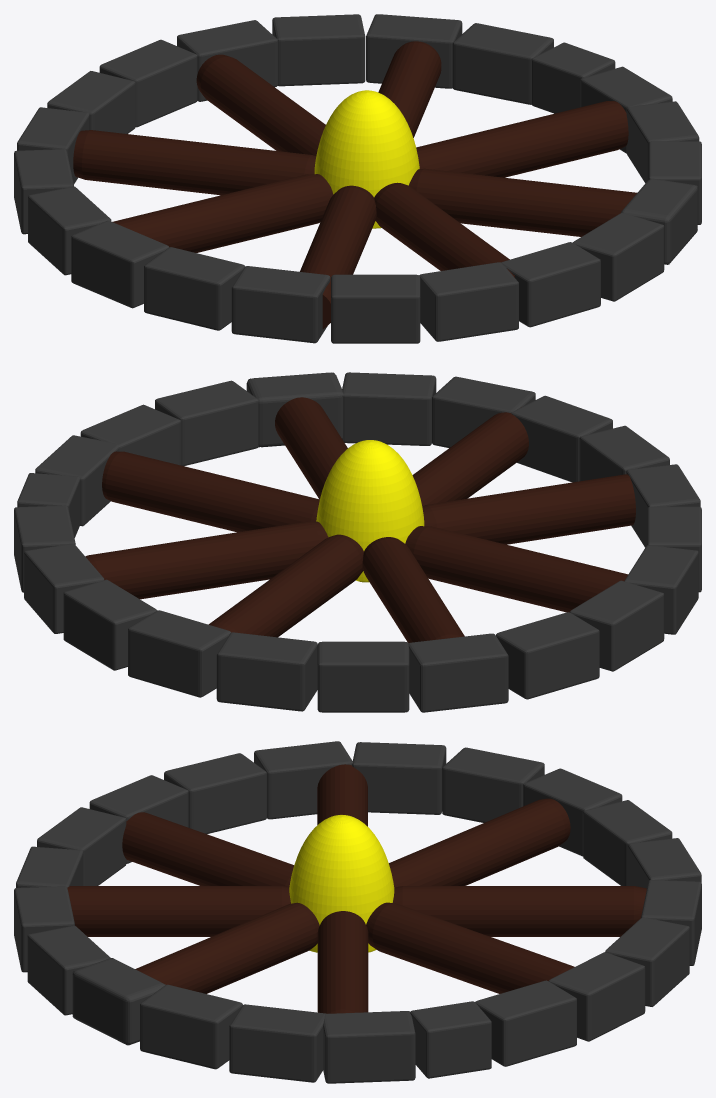
Rendered from CampfireFull.fbx.
The picture shows the model from 3 angles, top to bottom: view 1: azimuth 30°, elevation 25°; view 2: azimuth 150°, elevation 25°; view 3: azimuth 270°, elevation 25°; orthographic projection. The views are drawn at different scales.
Visible parts, largest first — view 1: Firewood_005, Firewood_004, Firewood_001, Firewood_002, Fire, Rock, Firewood_007, Rock_007, Rock_006, Rock_002, Rock_016, Firewood_003 (+18 smaller); view 2: Firewood, Firewood_001, Firewood_002, Firewood_006, Fire, Firewood_007, Rock_014, Rock_012, Rock_013, Rock_011, Rock_015, Rock_003 (+18 smaller); view 3: Firewood_007, Firewood_003, Firewood, Firewood_005, Fire, Firewood_004, Firewood_006, Rock_008, Rock_019, Rock_005, Rock_018, Rock_010 (+18 smaller).
Part boxes in pixels (bbox=[...]): Firewood_005: bbox=[73, 130, 316, 195]; Firewood_004: bbox=[408, 168, 636, 236]; Firewood_001: bbox=[416, 101, 628, 177]; Firewood_002: bbox=[112, 174, 333, 252]; Fire: bbox=[314, 90, 419, 228]; Rock: bbox=[419, 262, 518, 341]; Firewood_007: bbox=[196, 54, 325, 155]; Rock_007: bbox=[231, 266, 330, 343]; Rock_006: bbox=[331, 274, 420, 343]; Rock_002: bbox=[144, 247, 245, 330]; Rock_016: bbox=[272, 14, 365, 86]; Firewood_003: bbox=[374, 182, 514, 277]; Firewood: bbox=[85, 521, 328, 599]; Firewood_001: bbox=[102, 451, 319, 532]; Firewood_002: bbox=[405, 526, 628, 612]; Firewood_006: bbox=[422, 474, 635, 544]; Fire: bbox=[316, 440, 424, 582]; Firewood_007: bbox=[208, 534, 363, 637]; Rock_014: bbox=[216, 632, 317, 711]; Rock_012: bbox=[408, 633, 508, 712]; Rock_013: bbox=[317, 641, 409, 712]; Rock_011: bbox=[496, 612, 599, 699]; Rock_015: bbox=[128, 610, 231, 697]; Rock_003: bbox=[342, 372, 436, 445]; Firewood_007: bbox=[392, 886, 646, 936]; Firewood_003: bbox=[67, 886, 290, 936]; Firewood: bbox=[366, 902, 574, 993]; Firewood_005: bbox=[389, 798, 570, 887]; Fire: bbox=[289, 815, 394, 952]; Firewood_004: bbox=[135, 902, 319, 993]; Firewood_006: bbox=[122, 812, 293, 887]; Rock_008: bbox=[229, 1004, 326, 1082]; Rock_019: bbox=[323, 1011, 415, 1083]; Rock_005: bbox=[140, 984, 242, 1069]; Rock_018: bbox=[475, 980, 576, 1066]; Rock_010: bbox=[352, 742, 446, 814].
Size of the model in its own units: 4.11 by 0.7824 by 4.06.
